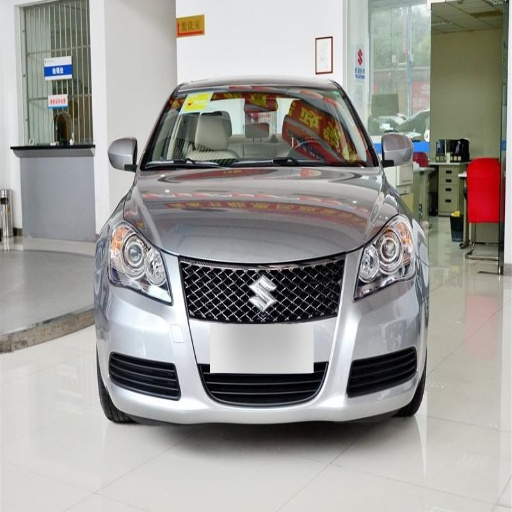front_bumper: (97, 245, 426, 416)
front_right_light: (100, 217, 174, 304)
hood: (132, 167, 398, 263)
